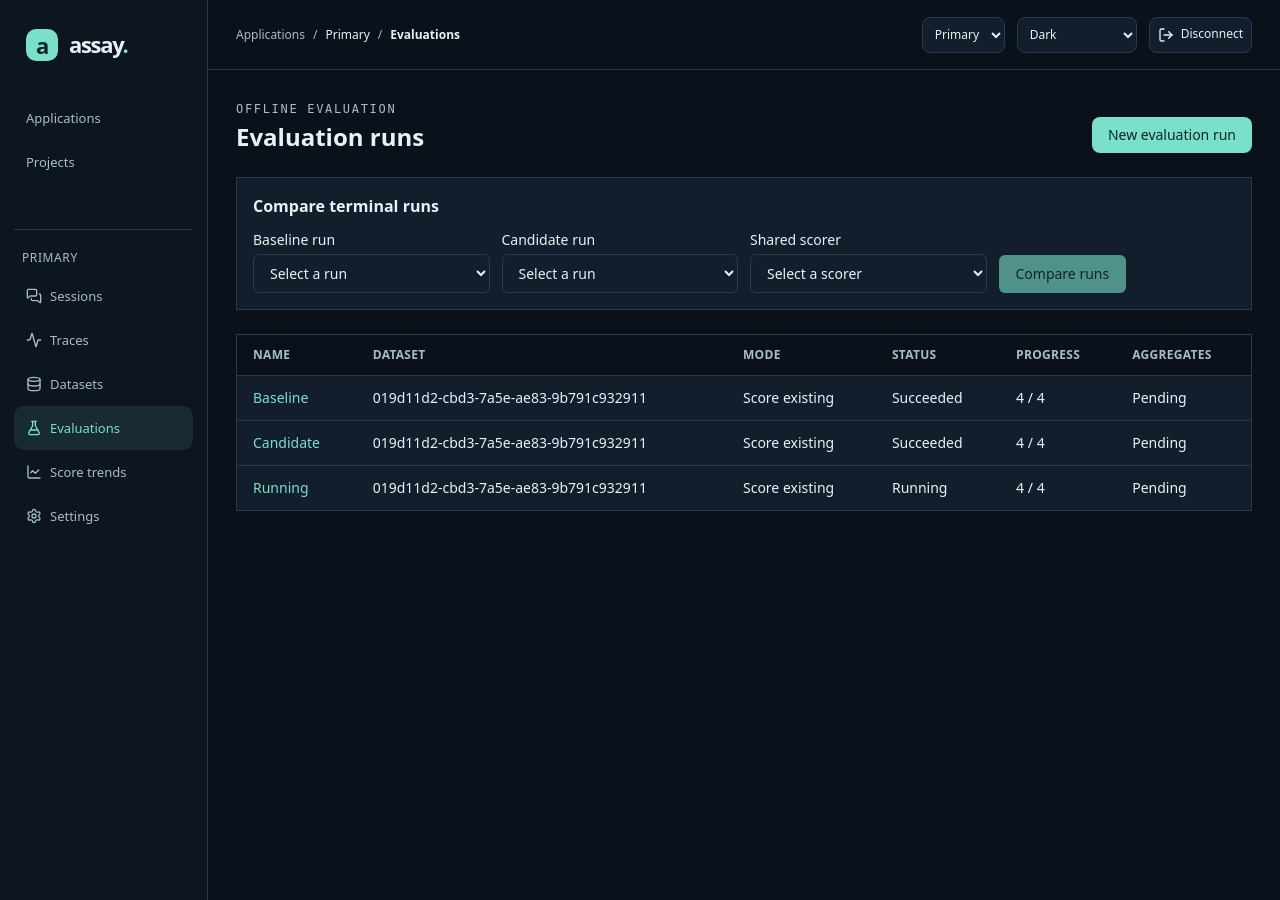
selects explicit terminal baseline, candidate, and shared scorer
The image size is (1280, 900).
Step 1. Select "Baseline" in the dropdown labelled "Baseline run" → (371, 274), box [253,254,490,293]
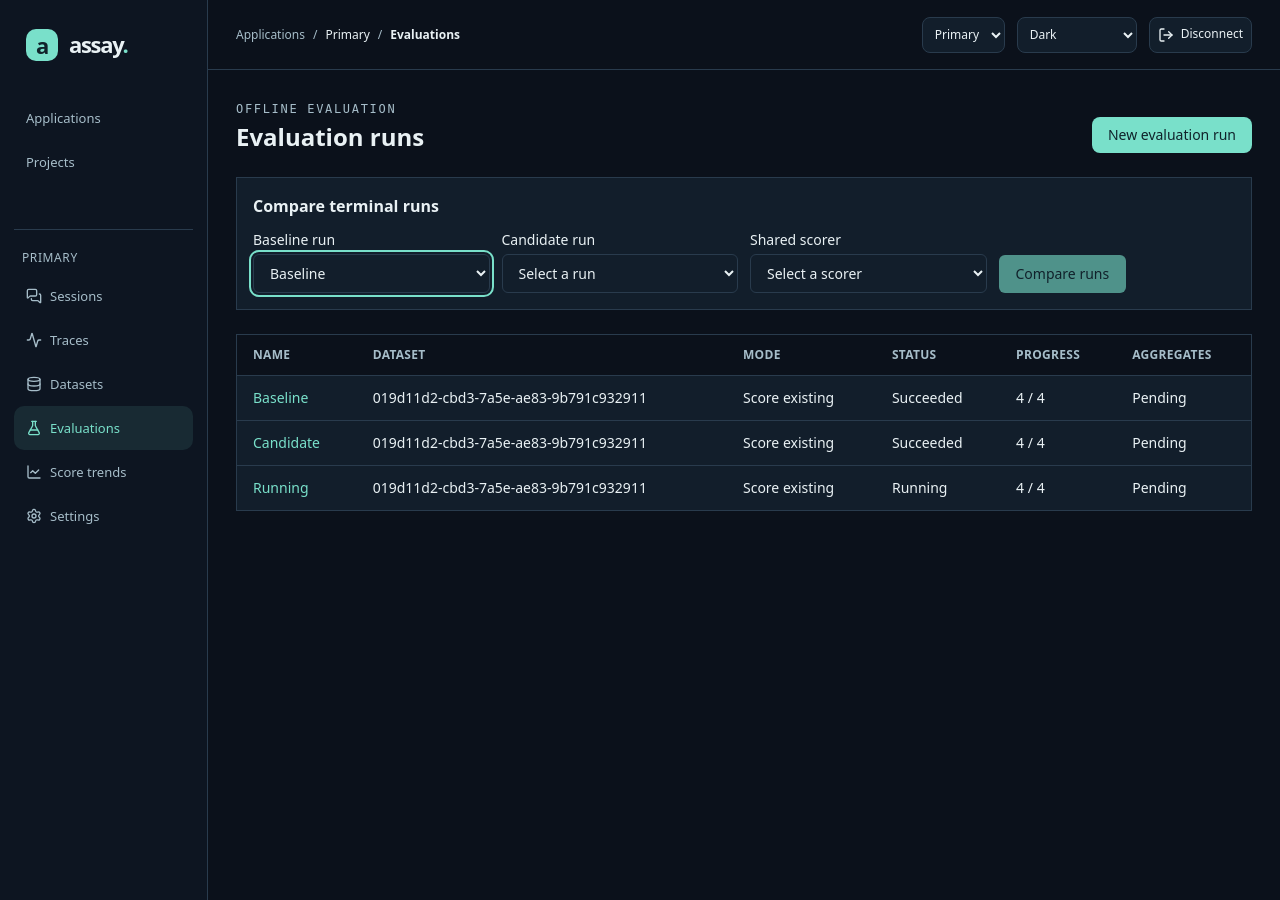
Step 2. Select "Candidate" in the dropdown labelled "Candidate run" → (620, 274), box [502,254,738,293]
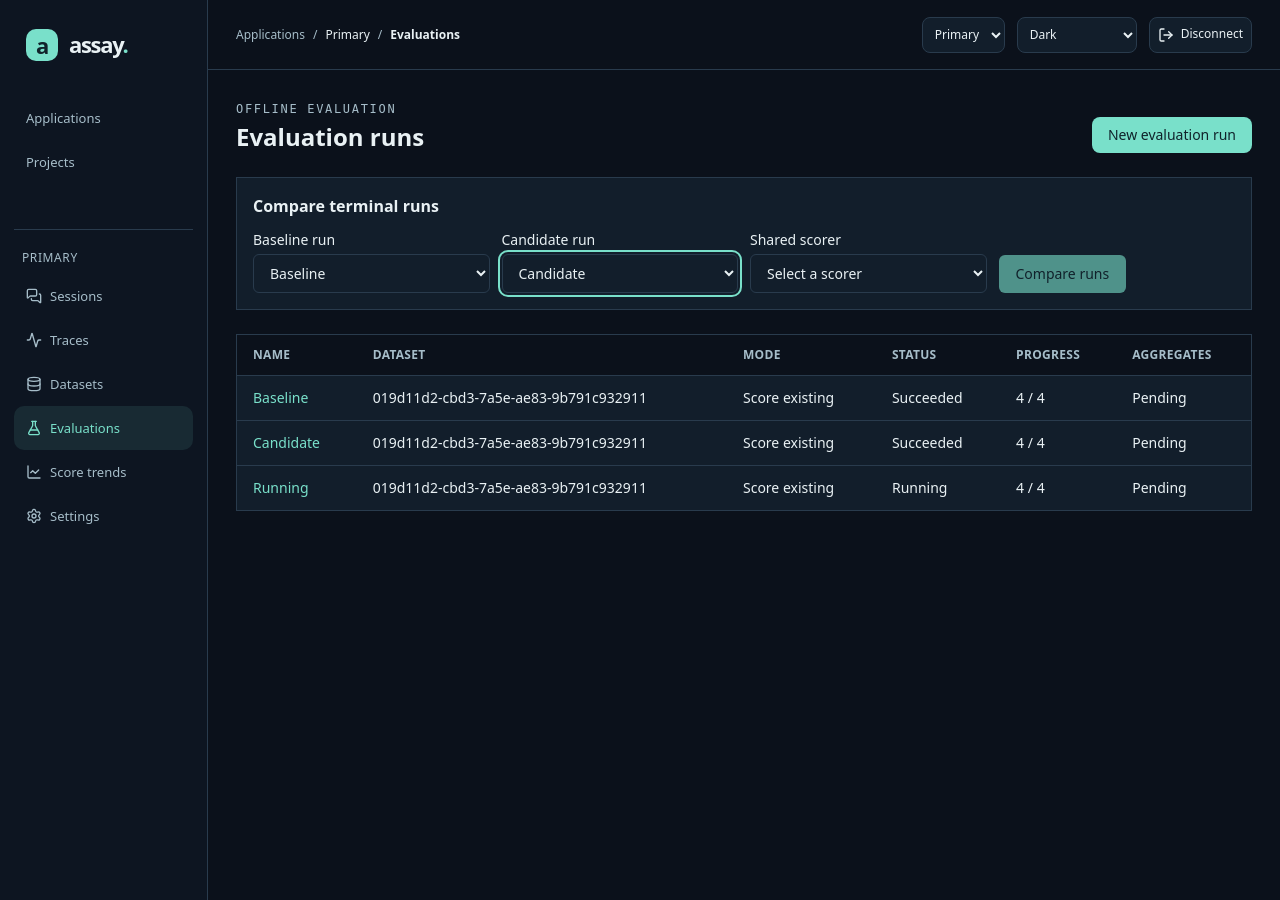
Step 3. Select "groundedness" in the dropdown labelled "Shared scorer" → (868, 274), box [750,254,986,293]
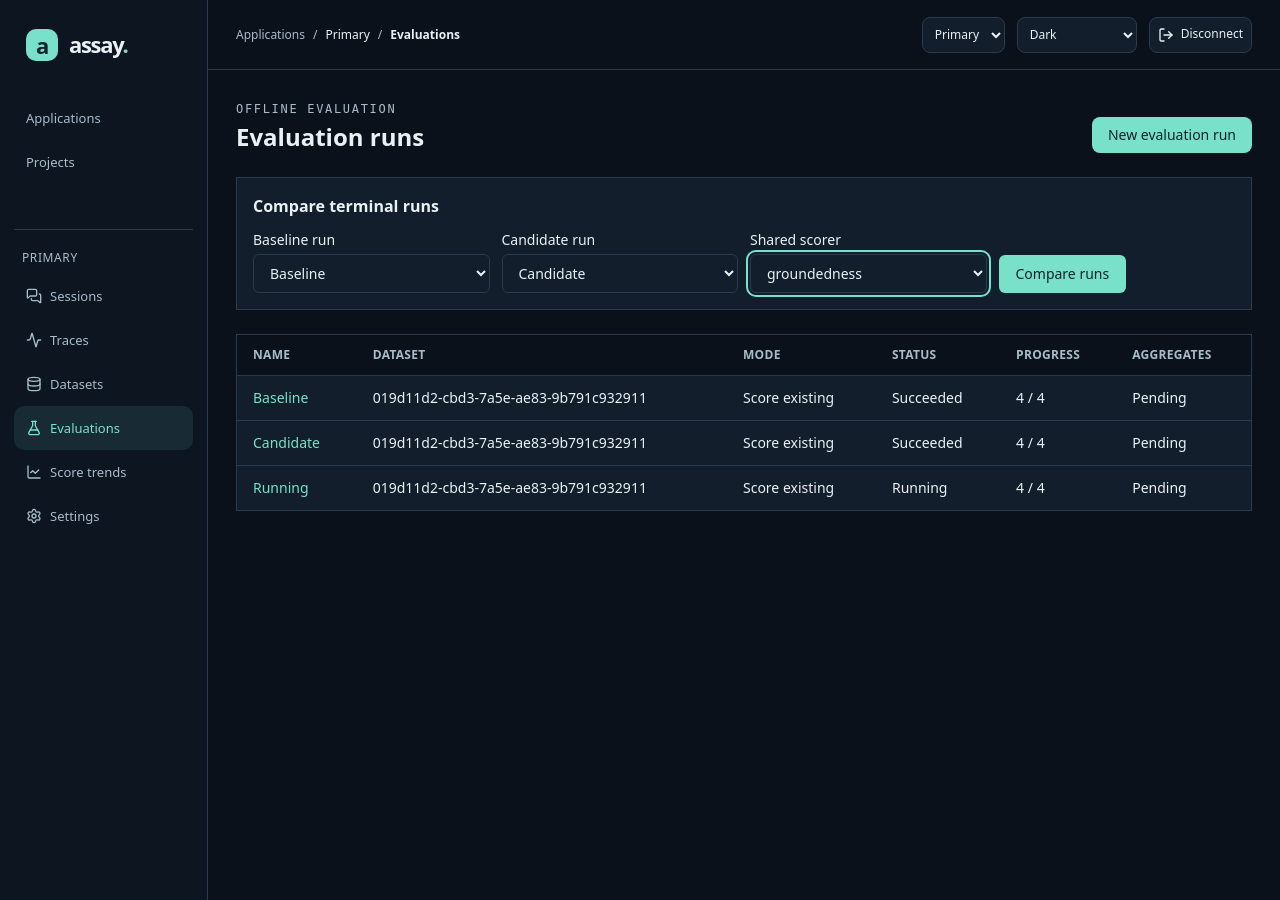
Step 4. Click the button "Compare runs" → (1062, 274), box [998,255,1126,293]
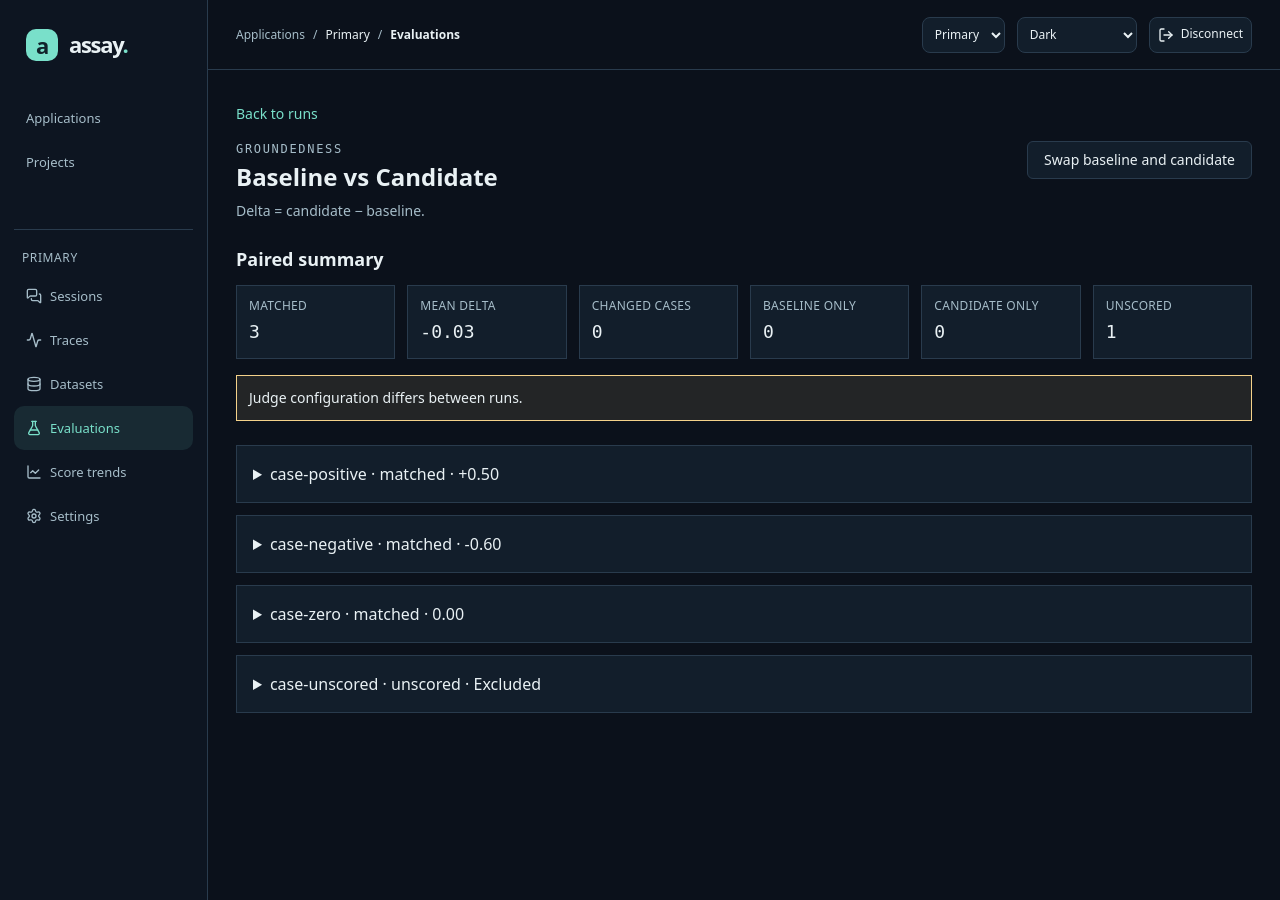
Check: the heading "Baseline vs Candidate" is shown, box [236,161,498,193]
